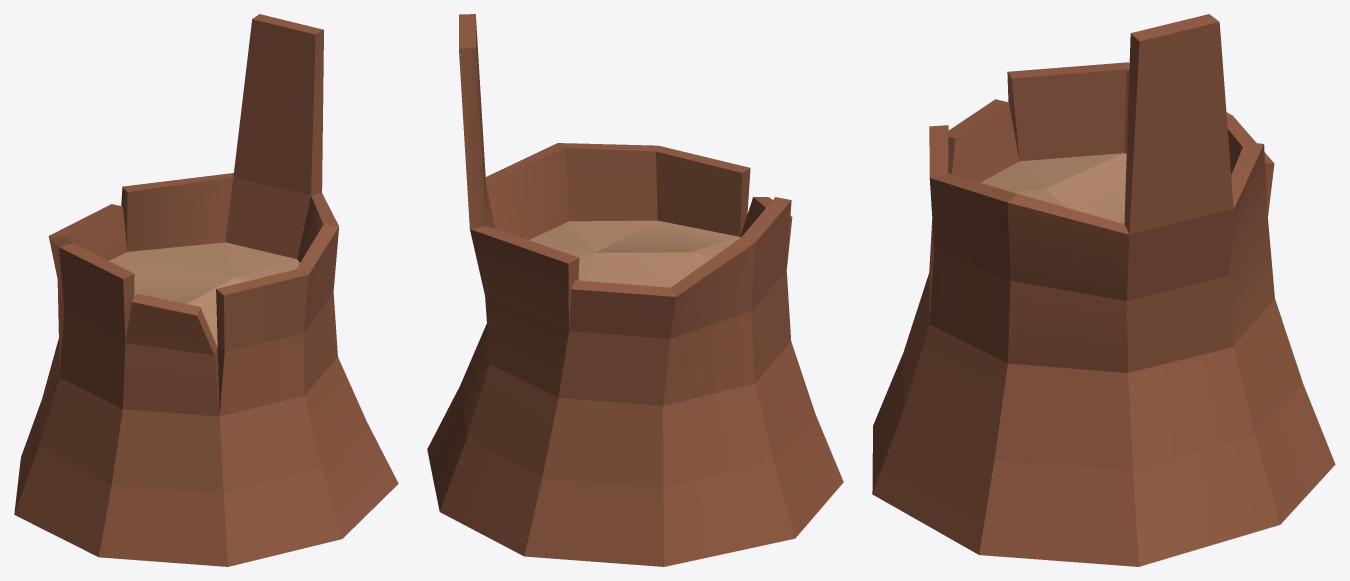
File: TreeTrunk_4.fbx
3 renders of one model, left to right at view 1: azimuth 30°, elevation 25°; view 2: azimuth 150°, elevation 25°; view 3: azimuth 270°, elevation 25°, orthographic. The views are drawn at different scales.
Visible parts, largest first — view 1: TreeTrunk_4; view 2: TreeTrunk_4; view 3: TreeTrunk_4.
Part boxes in pixels (x1,y1,x2,y2): TreeTrunk_4: (14, 14, 398, 566); TreeTrunk_4: (427, 14, 843, 566); TreeTrunk_4: (872, 14, 1335, 566).
Size of the model in its own units: 0.8572 by 0.988 by 0.8152.
